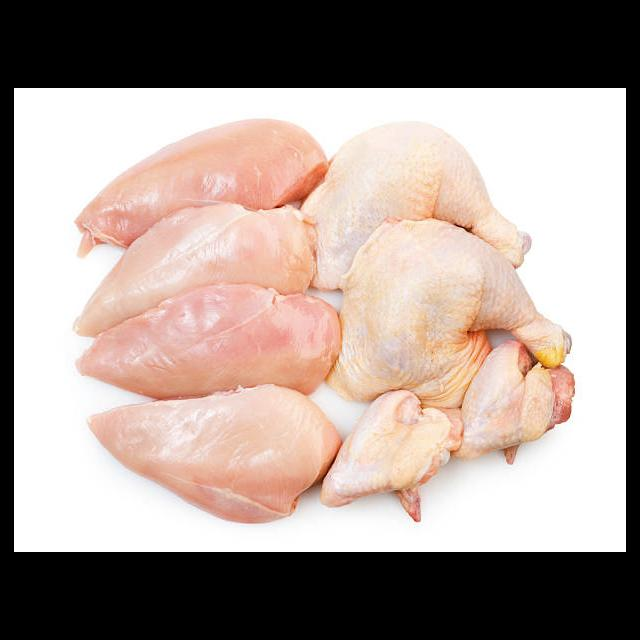chicken: (323, 220, 576, 404), (299, 117, 535, 295), (73, 110, 330, 264), (86, 383, 341, 523), (70, 203, 322, 337), (77, 283, 342, 401), (323, 391, 470, 522), (454, 336, 581, 469)
